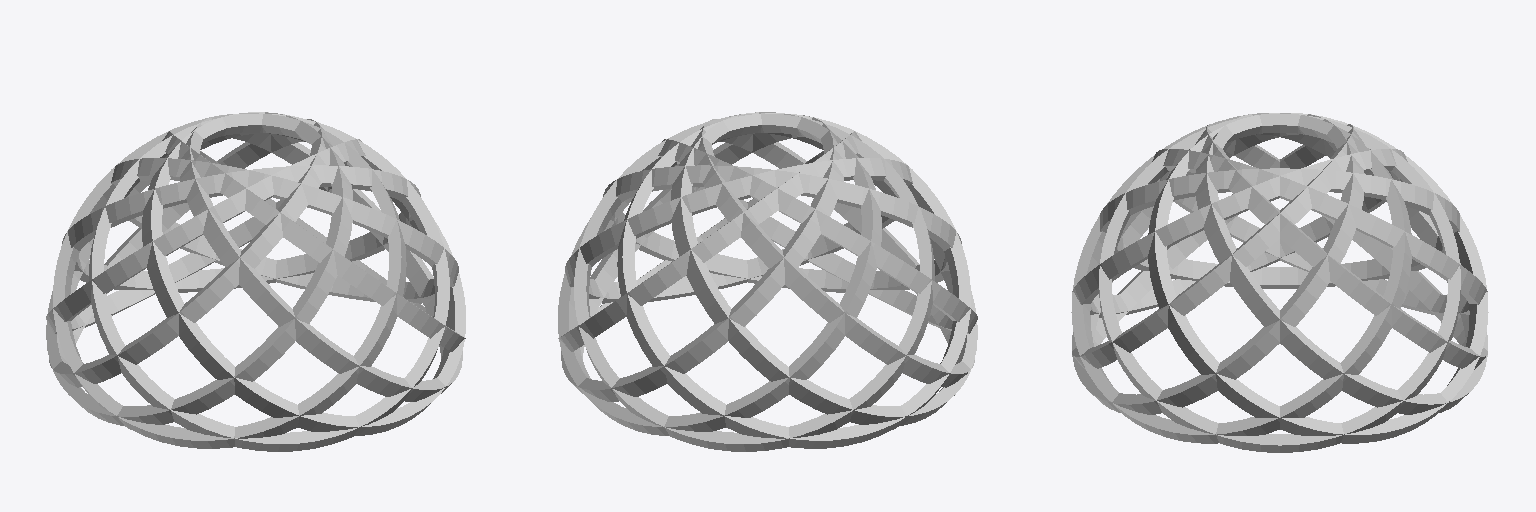
File: sphere-one.obj
3 renders of one model, left to right at view 1: azimuth 30°, elevation 25°; view 2: azimuth 150°, elevation 25°; view 3: azimuth 270°, elevation 25°, orthographic.
Parts seen in each view (by area): view 1: Object.4, Object.5, Object.3, Object.6, Object.2, Object.7, Object.9, Object.8, Object.10, Object.1; view 2: Object.8, Object.7, Object.9, Object.6, Object.10, Object.5, Object.3, Object.4, Object.2, Object.1; view 3: Object.1, Object.2, Object.10, Object.3, Object.9, Object.4, Object.8, Object.6, Object.5, Object.7.
Boxes of the visible parts, box(x1,y1,x2,y2) form: Object.4: box(89, 113, 449, 451); Object.5: box(53, 113, 406, 448); Object.3: box(142, 112, 465, 435); Object.6: box(46, 112, 352, 425); Object.2: box(180, 115, 462, 401); Object.7: box(49, 119, 332, 387); Object.9: box(62, 165, 420, 292); Object.8: box(46, 139, 365, 333); Object.10: box(111, 158, 458, 303); Object.1: box(162, 131, 465, 351); Object.8: box(574, 113, 934, 451); Object.7: box(617, 113, 970, 448); Object.9: box(558, 112, 881, 435); Object.6: box(671, 112, 977, 425); Object.10: box(561, 115, 843, 401); Object.5: box(691, 119, 974, 387); Object.3: box(603, 165, 961, 292); Object.4: box(658, 139, 977, 333); Object.2: box(565, 158, 912, 303); Object.1: box(558, 131, 861, 351); Object.1: box(1099, 114, 1460, 452); Object.2: box(1071, 113, 1411, 443); Object.10: box(1148, 113, 1488, 443); Object.3: box(1072, 114, 1364, 414); Object.9: box(1195, 114, 1487, 414); Object.4: box(1072, 124, 1364, 369); Object.8: box(1195, 124, 1487, 369); Object.6: box(1100, 168, 1459, 288); Object.5: box(1072, 149, 1407, 317); Object.7: box(1152, 149, 1487, 317).
Size of the model in its own units: 153 by 92.26 by 152.